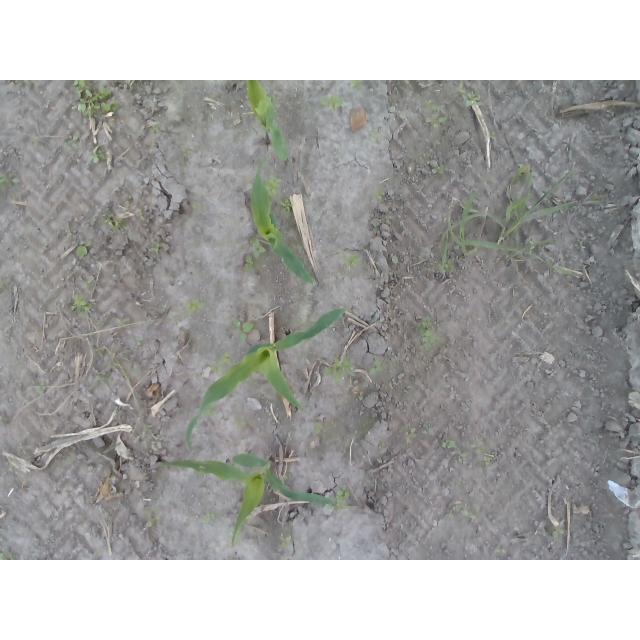Maize: (186, 304, 346, 448), (158, 450, 338, 546), (249, 163, 319, 289), (244, 80, 292, 162)
Weeds: (72, 80, 121, 116), (416, 319, 440, 352), (324, 359, 352, 385), (442, 439, 469, 465), (230, 319, 255, 346), (448, 500, 481, 520), (206, 354, 230, 375), (335, 487, 353, 513), (513, 164, 535, 185), (102, 212, 126, 231), (319, 96, 343, 113), (264, 174, 281, 197), (341, 254, 364, 270), (251, 239, 269, 258), (143, 511, 161, 530), (424, 99, 448, 113), (476, 447, 493, 466), (72, 295, 89, 314), (424, 116, 448, 128), (437, 259, 456, 273), (186, 298, 208, 310), (510, 198, 530, 211), (63, 135, 81, 149), (367, 359, 385, 373), (0, 174, 14, 191), (463, 94, 481, 107), (244, 255, 257, 273), (279, 535, 294, 550), (280, 198, 292, 215), (89, 150, 106, 162), (431, 163, 449, 174), (75, 243, 89, 257), (404, 431, 417, 445), (95, 370, 113, 380), (551, 526, 566, 537), (31, 384, 49, 393), (350, 80, 366, 89), (0, 552, 16, 561), (236, 417, 248, 428), (149, 243, 161, 254), (458, 80, 466, 96), (375, 439, 386, 450), (352, 391, 364, 401), (143, 423, 153, 434), (150, 124, 161, 134), (206, 408, 218, 417), (204, 510, 216, 519), (390, 255, 402, 264), (83, 281, 94, 290), (181, 148, 192, 157), (127, 194, 134, 208), (375, 192, 386, 200), (0, 279, 8, 289), (315, 421, 321, 433), (529, 240, 536, 250), (280, 473, 288, 481), (489, 132, 496, 140), (120, 320, 129, 325)
